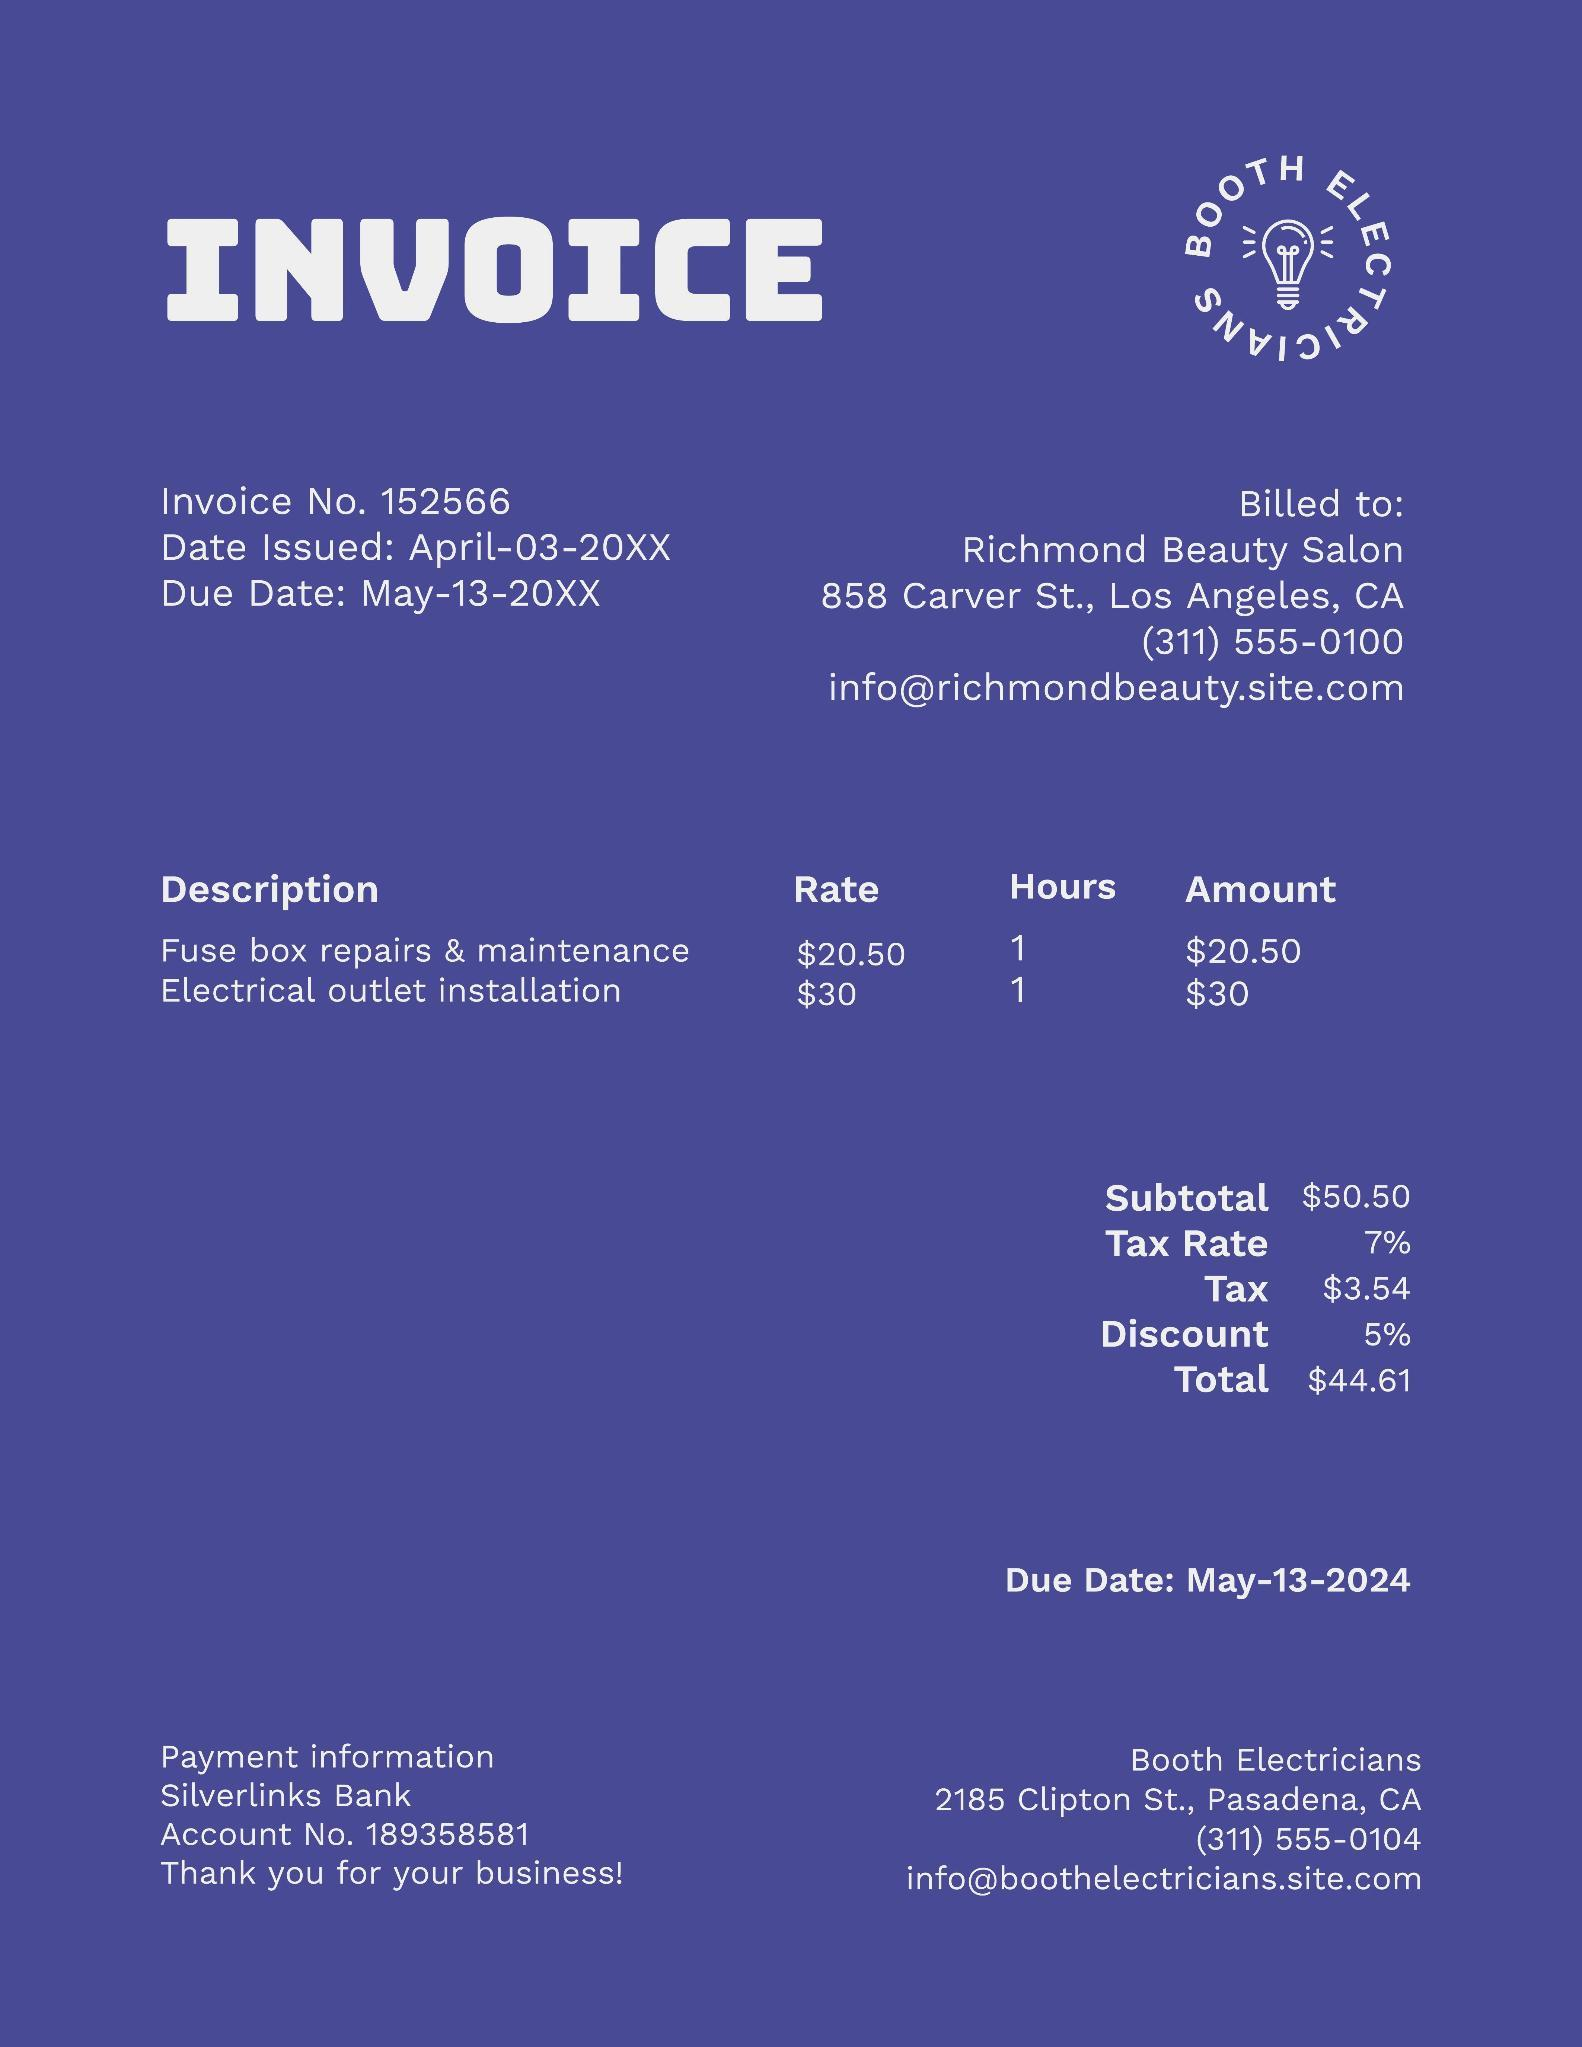ROI: (140, 851, 1349, 1030), (799, 467, 1437, 704), (901, 1711, 1446, 1911), (141, 455, 693, 646), (1075, 1156, 1459, 1412), (146, 204, 829, 347), (141, 1725, 650, 1911), (1172, 131, 1401, 366), (995, 1547, 1451, 1608)
